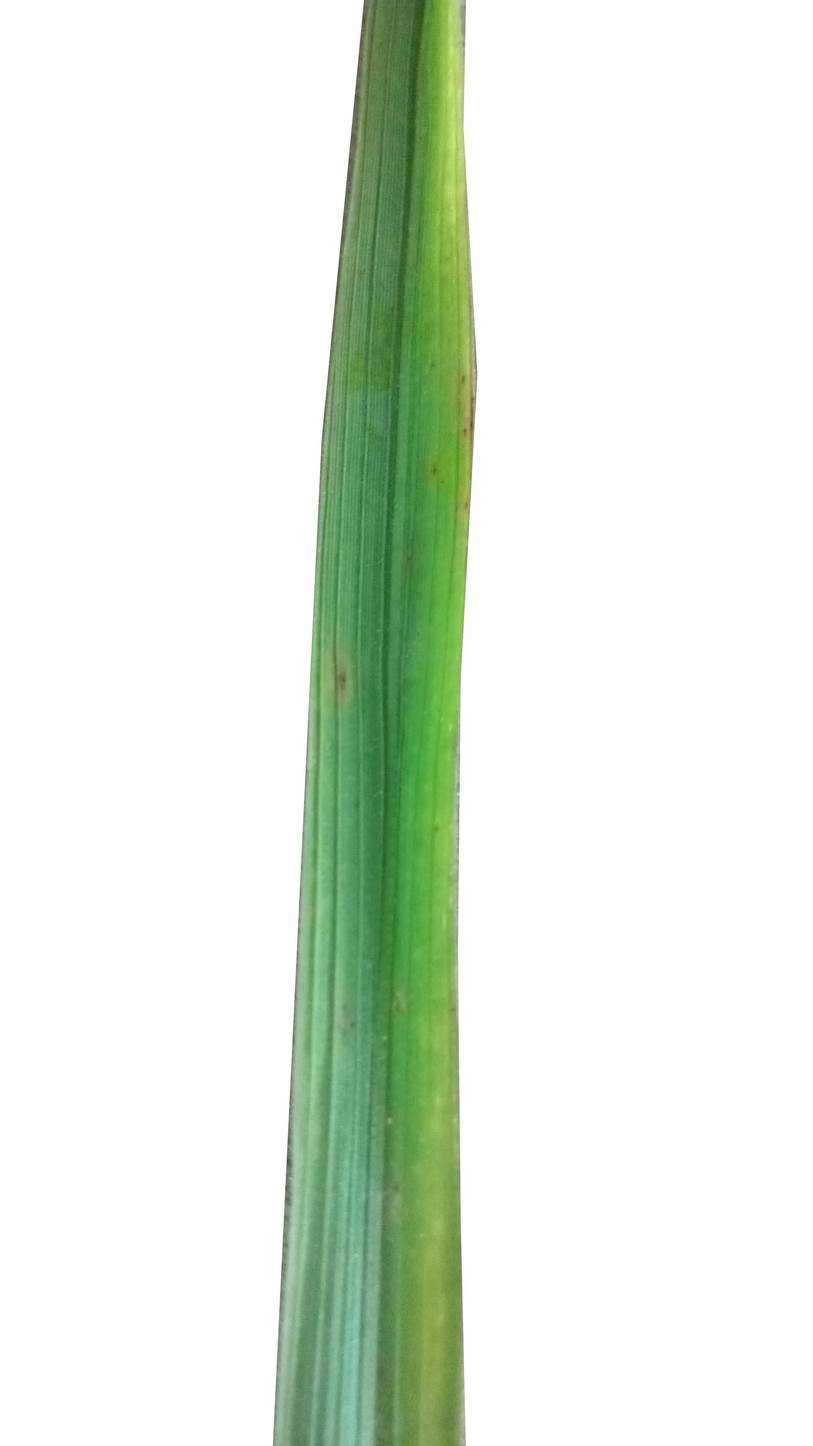Tungro: (375, 0, 473, 1446)
